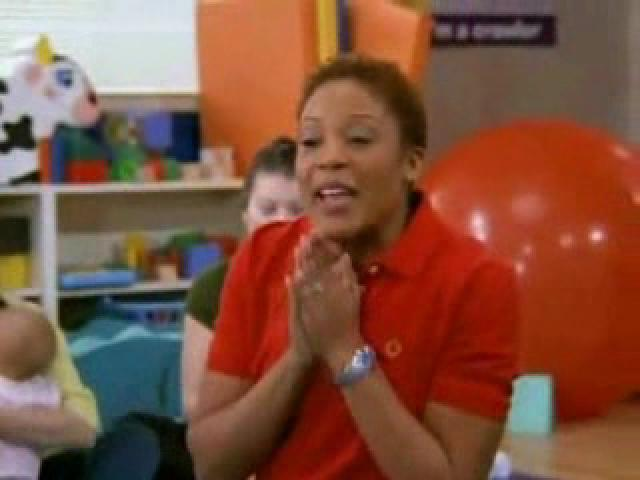F: (196, 56, 520, 479)
